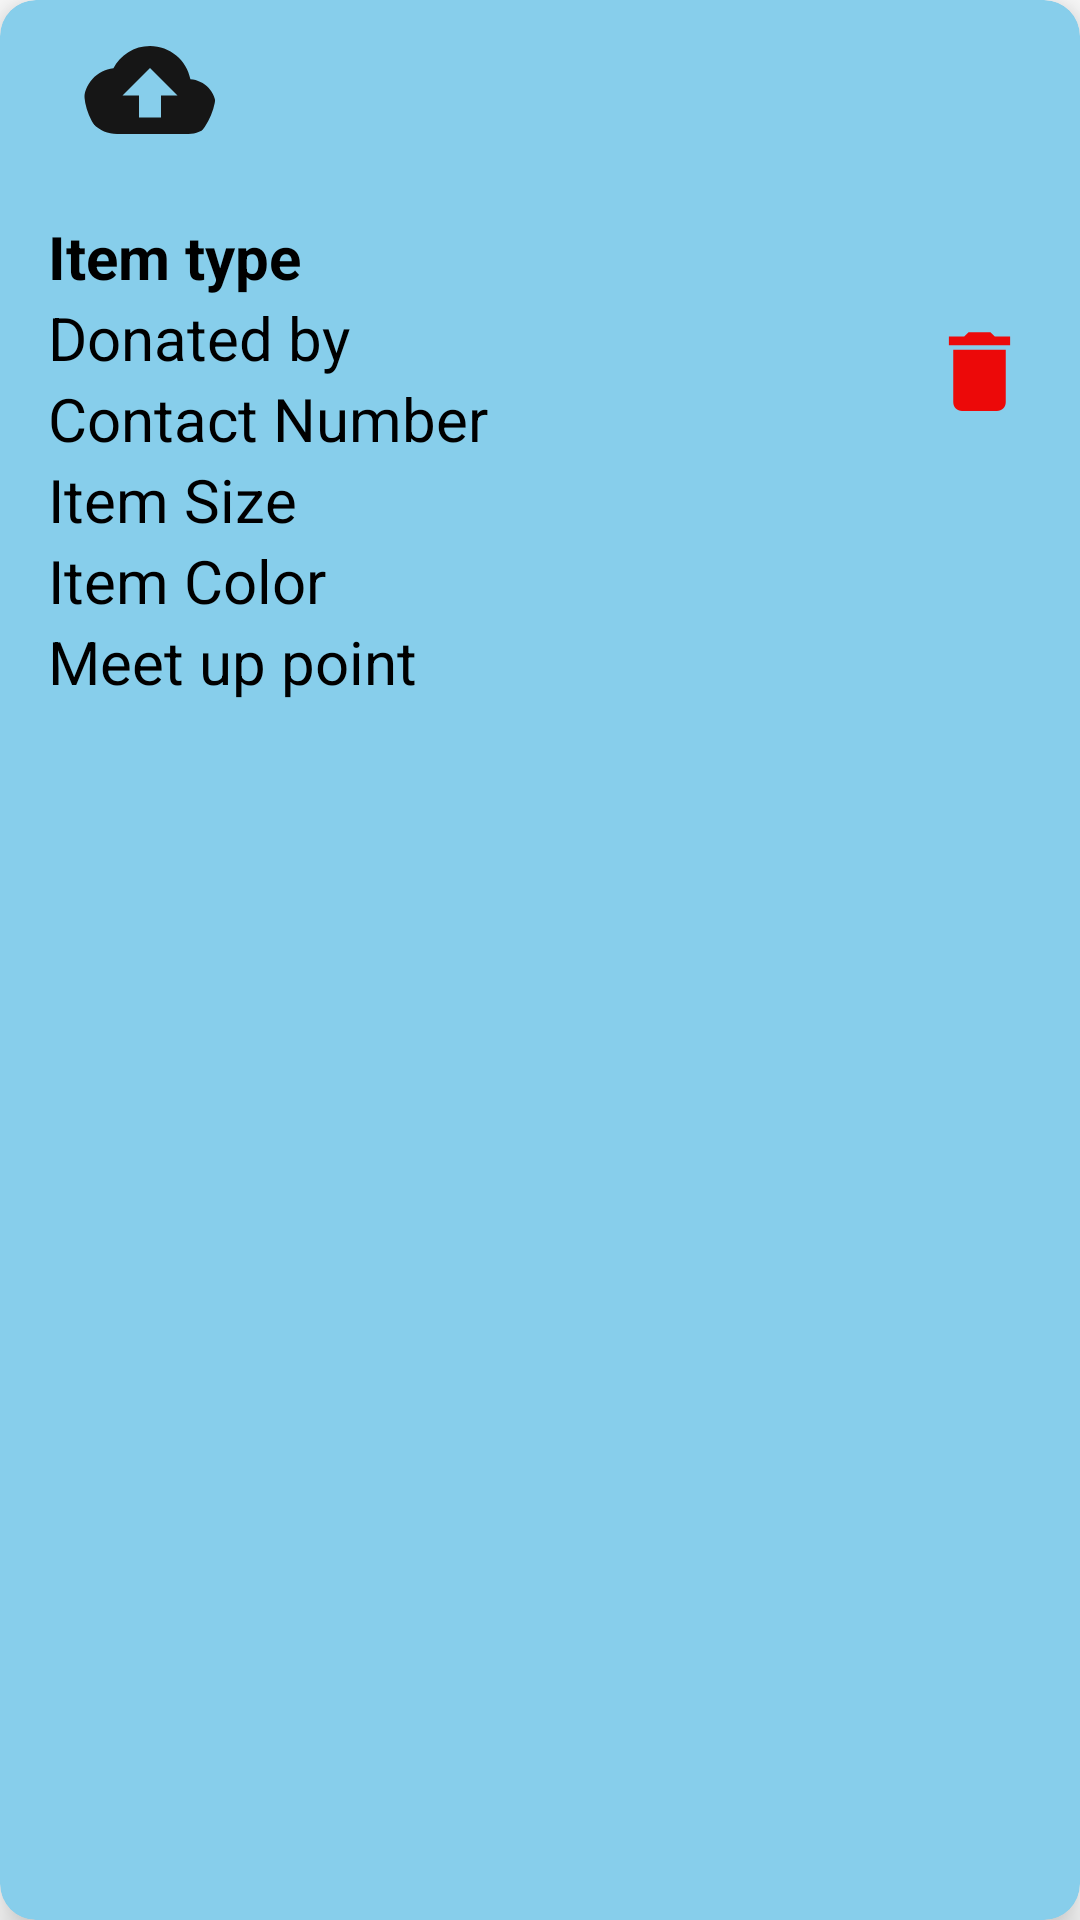

Screen size 1080 × 1920. Icon name, then its box in pixels as (x1, y1, x2, y2):
cloud upload: (84, 46, 215, 134)
delete: (948, 332, 1011, 411)
